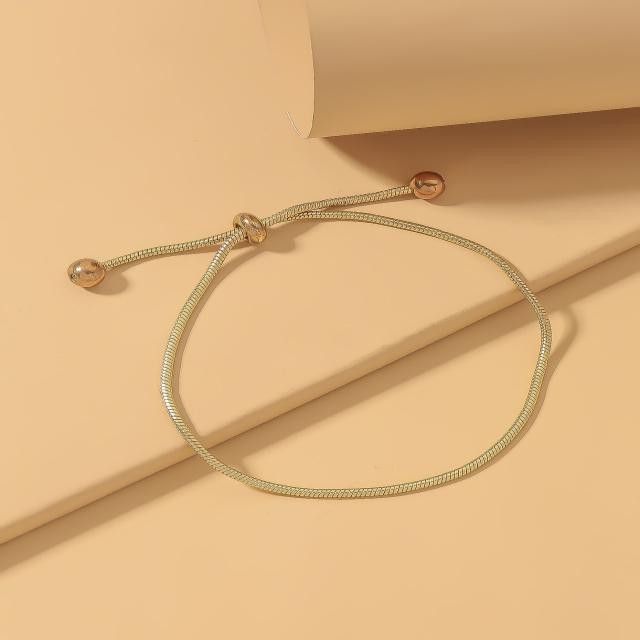bracelet: (41, 121, 640, 559)
